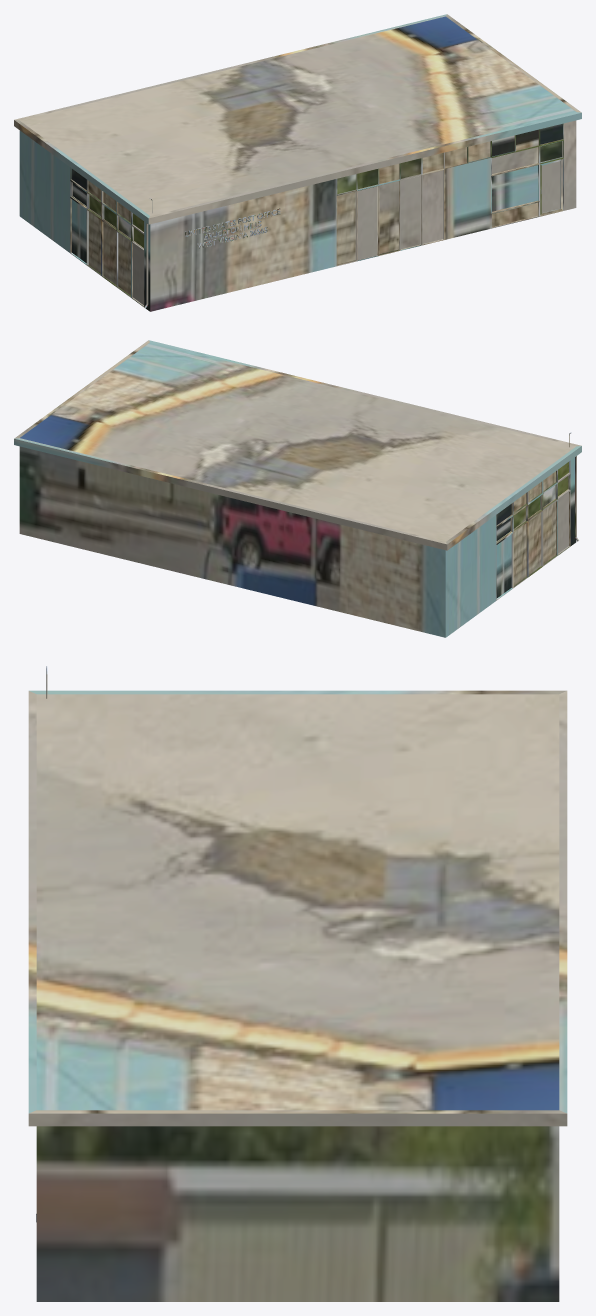
Rendered from postOffice.fbx.
3 views of the same model, one above another, from view 1: azimuth 30°, elevation 25°; view 2: azimuth 150°, elevation 25°; view 3: azimuth 270°, elevation 25° (orthographic). The views are drawn at different scales.
Parts seen in each view (by area): view 1: postOffice; view 2: postOffice; view 3: postOffice.
Part boxes in pixels (bbox=[...]): postOffice: bbox=[14, 14, 581, 311]; postOffice: bbox=[14, 340, 581, 637]; postOffice: bbox=[28, 666, 567, 1301].
Bounding box in the file's own units: 3449 × 843 × 1854.
